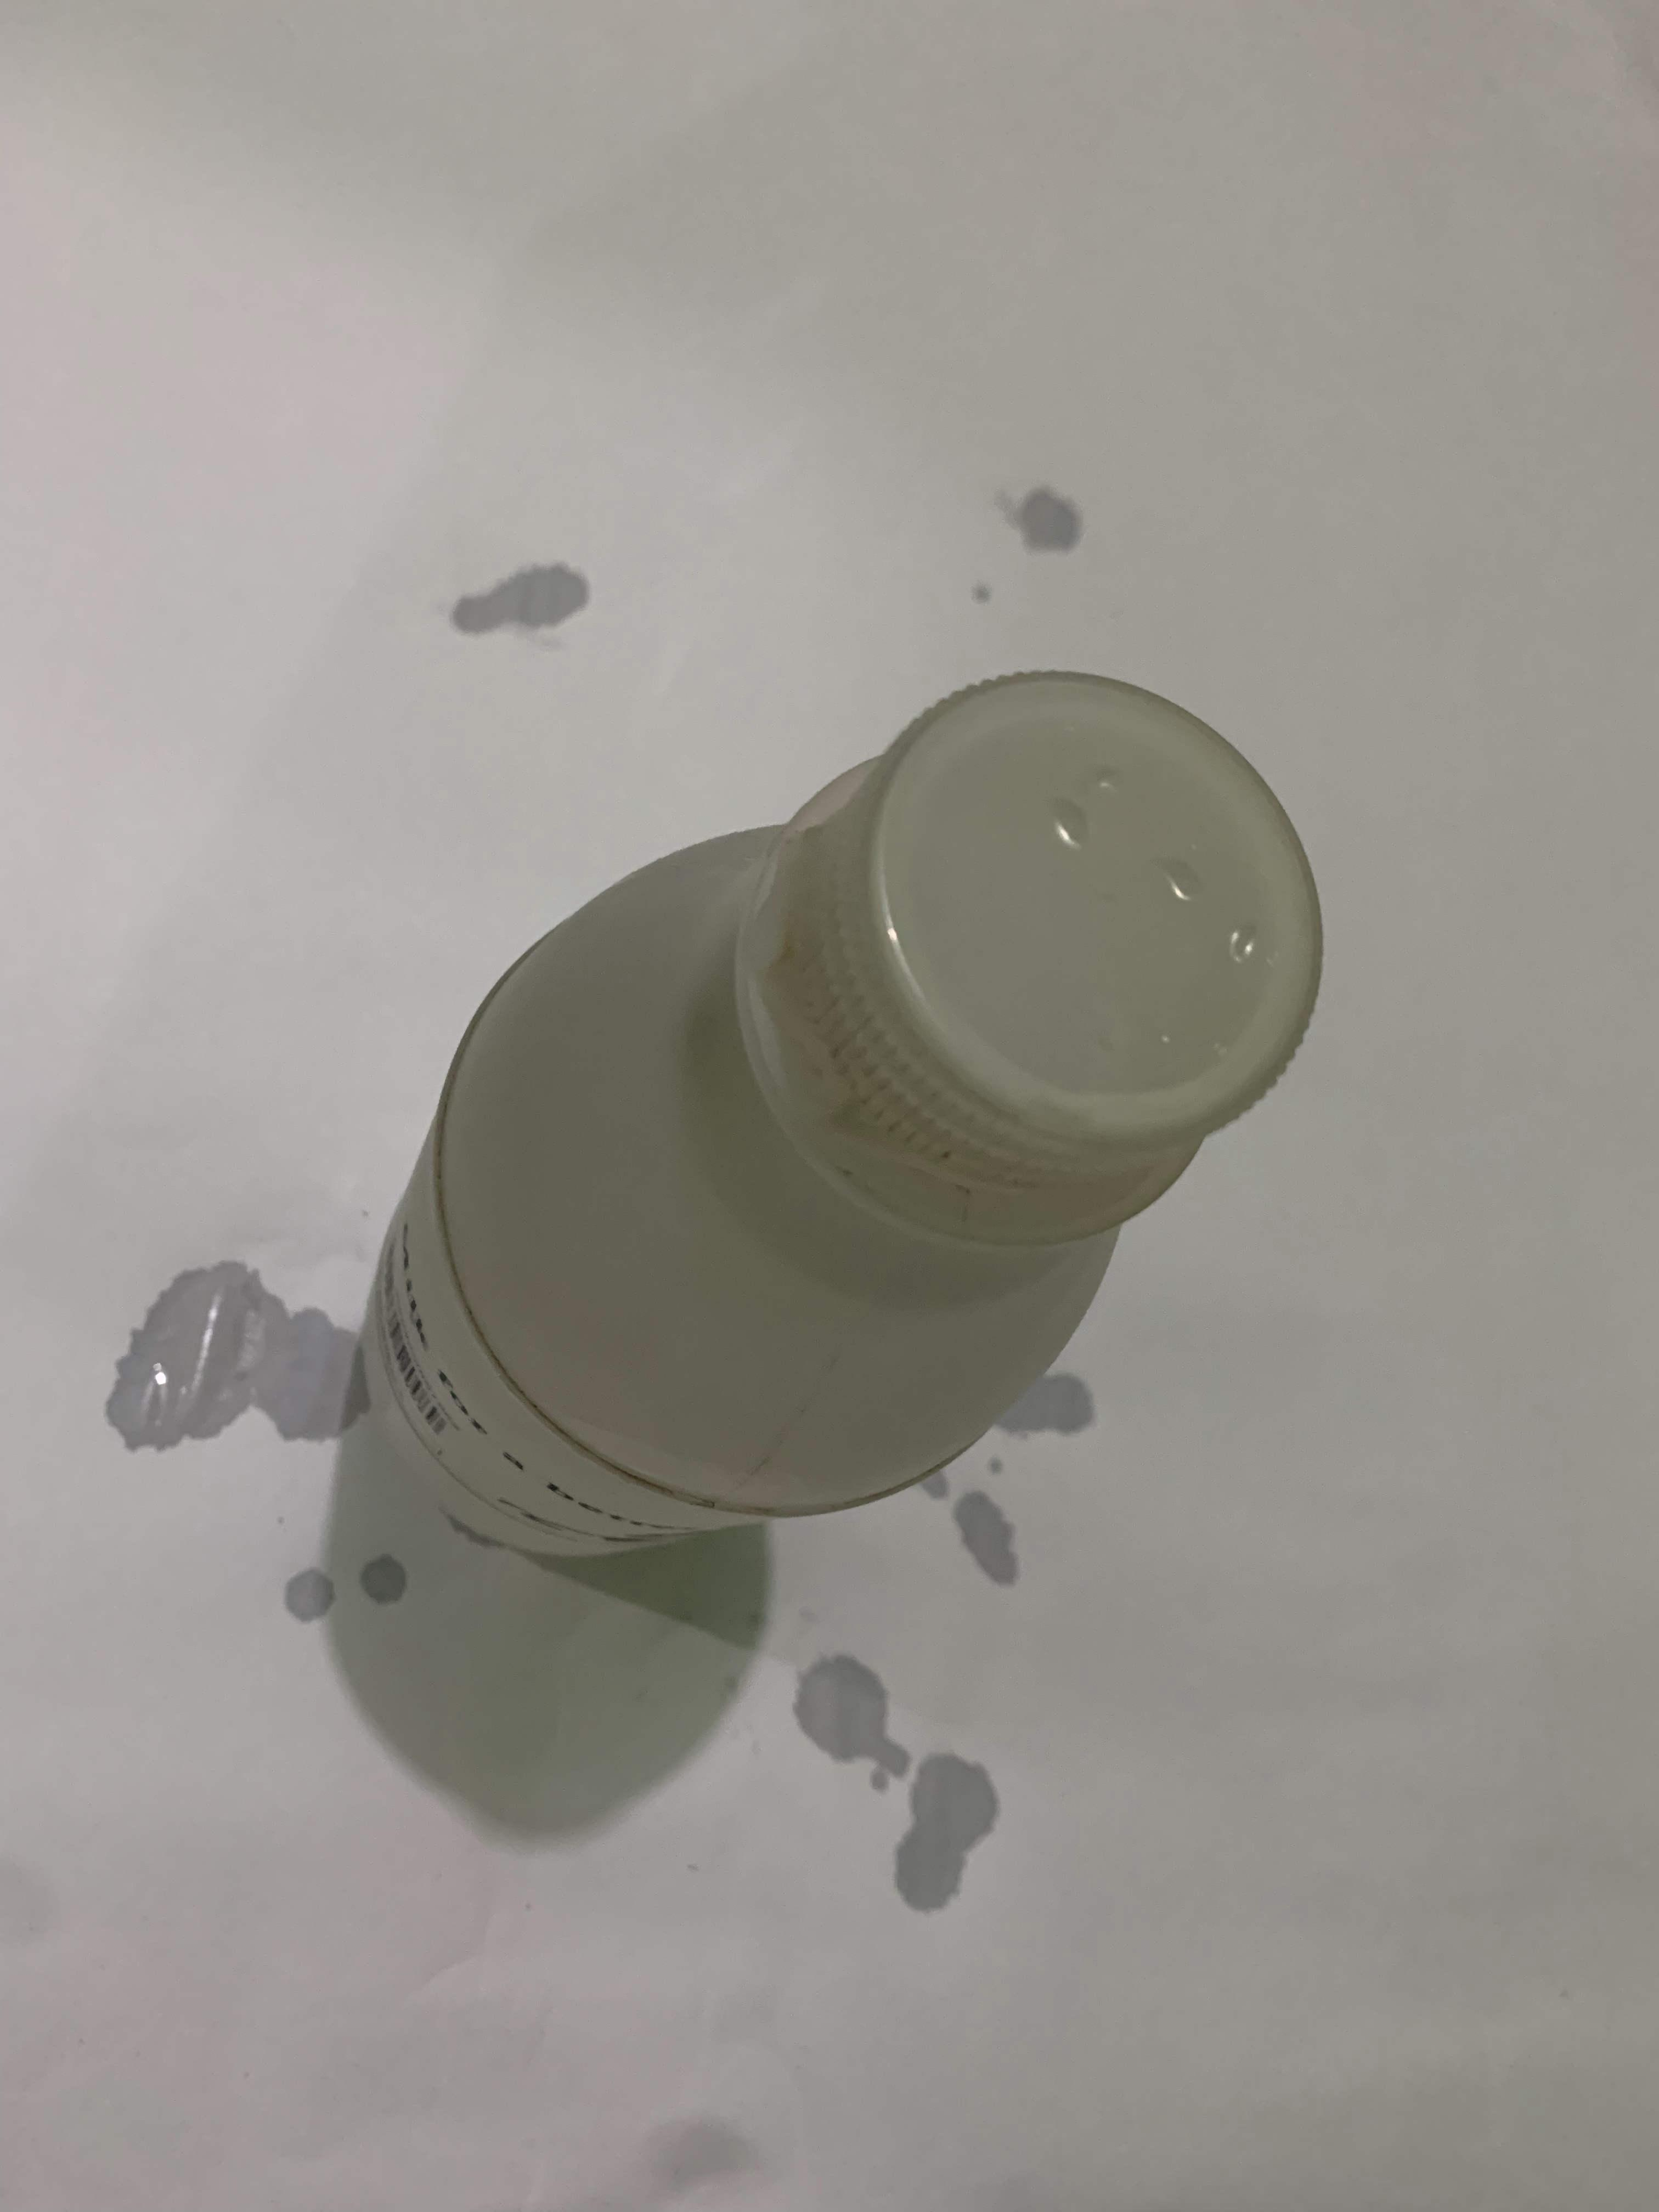bottle: (0, 0, 77, 463)
